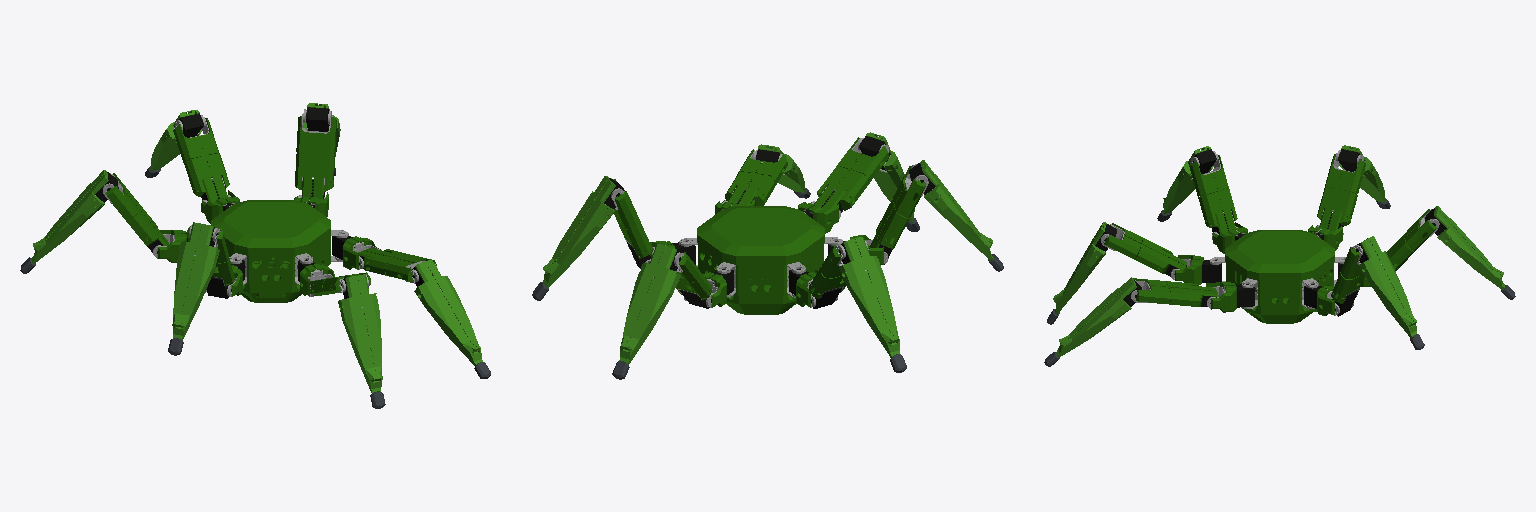
--- What the picture shows (computed from the rendered views, not written in the file) ---
The picture shows the robot from 3 angles, left to right: view 1: azimuth 30°, elevation 25°; view 2: azimuth 150°, elevation 25°; view 3: azimuth 270°, elevation 25°; orthographic projection.
Model hexapod with 19 links and 18 joints (18 revolute), rooted at body, posed all joints at 0.
Visible links, largest first — view 1: body, foot_5, foot_6, foot, ties_2, ties_3, foot_4, ties_4, foot_3, ties, ties_5, hip (+5 smaller); view 2: body, foot_3, foot_4, foot_2, ties_6, foot_5, ties, ties_5, foot_6, ties_2, ties_4, ties_3 (+4 smaller); view 3: body, foot_2, ties_4, ties_5, foot, foot_3, ties_6, ties, foot_6, foot_5, ties_2, foot_4 (+4 smaller).
Link boxes in pixels (x1,y1,x2,y2): body: (211, 200, 343, 302); foot_5: (168, 222, 219, 355); foot_6: (338, 274, 385, 408); foot: (412, 259, 490, 378); ties_2: (295, 114, 336, 198); ties_3: (173, 117, 229, 201); foot_4: (20, 170, 118, 273); ties_4: (103, 173, 168, 257); foot_3: (145, 110, 205, 177); ties: (358, 248, 436, 283); ties_5: (186, 226, 234, 298); hip: (332, 231, 380, 269); body: (684, 206, 837, 314); foot_3: (612, 244, 681, 379); foot_4: (838, 237, 906, 372); foot_2: (532, 176, 625, 300); ties_6: (812, 137, 889, 218); foot_5: (909, 160, 1003, 271); ties: (725, 149, 787, 205); ties_5: (869, 165, 928, 264); foot_6: (858, 132, 919, 231); ties_2: (612, 179, 652, 268); ties_4: (809, 244, 869, 308); ties_3: (650, 249, 712, 308); body: (1214, 230, 1345, 323); foot_2: (1354, 236, 1424, 349); ties_4: (1317, 153, 1365, 234); ties_5: (1189, 154, 1237, 239); foot: (1044, 277, 1141, 366); foot_3: (1425, 206, 1515, 299); ties_6: (1102, 223, 1186, 279); ties: (1133, 278, 1218, 308); foot_6: (1047, 222, 1116, 324); foot_5: (1157, 146, 1217, 221); ties_2: (1331, 238, 1367, 316); foot_4: (1336, 145, 1390, 208).
Bounding box of the posed robot: 0.8592 × 1.15 × 0.3683 m (x, y, z).
Meshes: 12 distinct files referenced, 123 mesh visuals loaded (12 binary STL).

robot.urdf — hexapod:
<?xml version="1.0" ?>
<!-- Generated using onshape-to-robot -->
<!-- Onshape https://cad.onshape.com/documents/026f9a33ba6a25a983a9d639/w/b83e0182bd0a887a03df3198/e/e49783848224d44e064e4a49 -->
<robot name="hexapod">
  <!-- Link body -->
  <link name="body">
    <inertial>
      <origin xyz="-0.378883 -0.237614 0.154823" rpy="0 0 0"/>
      <mass value="2.24777"/>
      <inertia ixx="0.0169961" ixy="-3.37164e-05" ixz="7.57412e-05" iyy="0.0170029" iyz="0.000192289" izz="0.0239802"/>
    </inertial>
    <!-- Part mobile_bracket -->
    <visual>
      <origin xyz="-0.27238 -0.300704 0.156035" rpy="2.0944 1.5708 0"/>
      <geometry>
        <mesh filename="package://meshes/mobile_bracket.stl"/>
      </geometry>
      <material name="mobile_bracket_material">
        <color rgba="0.647059 0.647059 0.647059 1"/>
      </material>
    </visual>
    <collision>
      <origin xyz="-0.27238 -0.300704 0.156035" rpy="2.0944 1.5708 0"/>
      <geometry>
        <mesh filename="package://meshes/mobile_bracket.stl"/>
      </geometry>
    </collision>
    <!-- Part mobile_bracket_2 -->
    <visual>
      <origin xyz="-0.27238 -0.177913 0.156035" rpy="1.0472 1.5708 0"/>
      <geometry>
        <mesh filename="package://meshes/mobile_bracket.stl"/>
      </geometry>
      <material name="mobile_bracket_2_material">
        <color rgba="0.647059 0.647059 0.647059 1"/>
      </material>
    </visual>
    <collision>
      <origin xyz="-0.27238 -0.177913 0.156035" rpy="1.0472 1.5708 0"/>
      <geometry>
        <mesh filename="package://meshes/mobile_bracket.stl"/>
      </geometry>
    </collision>
    <!-- Part bottom_cover -->
    <visual>
      <origin xyz="-0.37872 -0.239308 0.121035" rpy="3.14159 5.06521e-16 -2.0944"/>
      <geometry>
        <mesh filename="package://meshes/bottom_cover.stl"/>
      </geometry>
      <material name="bottom_cover_material">
        <color rgba="0.196078 0.439216 0.0784314 1"/>
      </material>
    </visual>
    <collision>
      <origin xyz="-0.37872 -0.239308 0.121035" rpy="3.14159 5.06521e-16 -2.0944"/>
      <geometry>
        <mesh filename="package://meshes/bottom_cover.stl"/>
      </geometry>
    </collision>
    <!-- Part mobile_bracket_3 -->
    <visual>
      <origin xyz="-0.37872 -0.116518 0.156035" rpy="1.10589e-16 -1.5708 0"/>
      <geometry>
        <mesh filename="package://meshes/mobile_bracket.stl"/>
      </geometry>
      <material name="mobile_bracket_3_material">
        <color rgba="0.647059 0.647059 0.647059 1"/>
      </material>
    </visual>
    <collision>
      <origin xyz="-0.37872 -0.116518 0.156035" rpy="1.10589e-16 -1.5708 0"/>
      <geometry>
        <mesh filename="package://meshes/mobile_bracket.stl"/>
      </geometry>
    </collision>
    <!-- Part cover -->
    <visual>
      <origin xyz="-0.37872 -0.239308 0.191035" rpy="1.60678e-16 3.96758e-17 2.0944"/>
      <geometry>
        <mesh filename="package://meshes/cover.stl"/>
      </geometry>
      <material name="cover_material">
        <color rgba="0.196078 0.439216 0.0784314 1"/>
      </material>
    </visual>
    <collision>
      <origin xyz="-0.37872 -0.239308 0.191035" rpy="1.60678e-16 3.96758e-17 2.0944"/>
      <geometry>
        <mesh filename="package://meshes/cover.stl"/>
      </geometry>
    </collision>
    <!-- Part mobile_bracket_4 -->
    <visual>
      <origin xyz="-0.37872 -0.362099 0.156035" rpy="-3.14159 1.5708 0"/>
      <geometry>
        <mesh filename="package://meshes/mobile_bracket.stl"/>
      </geometry>
      <material name="mobile_bracket_4_material">
        <color rgba="0.647059 0.647059 0.647059 1"/>
      </material>
    </visual>
    <collision>
      <origin xyz="-0.37872 -0.362099 0.156035" rpy="-3.14159 1.5708 0"/>
      <geometry>
        <mesh filename="package://meshes/mobile_bracket.stl"/>
      </geometry>
    </collision>
    <!-- Part mobile_bracket_5 -->
    <visual>
      <origin xyz="-0.485059 -0.177913 0.156035" rpy="1.0472 -1.5708 0"/>
      <geometry>
        <mesh filename="package://meshes/mobile_bracket.stl"/>
      </geometry>
      <material name="mobile_bracket_5_material">
        <color rgba="0.647059 0.647059 0.647059 1"/>
      </material>
    </visual>
    <collision>
      <origin xyz="-0.485059 -0.177913 0.156035" rpy="1.0472 -1.5708 0"/>
      <geometry>
        <mesh filename="package://meshes/mobile_bracket.stl"/>
      </geometry>
    </collision>
    <!-- Part mobile_bracket_6 -->
    <visual>
      <origin xyz="-0.485059 -0.300704 0.156035" rpy="2.0944 -1.5708 0"/>
      <geometry>
        <mesh filename="package://meshes/mobile_bracket.stl"/>
      </geometry>
      <material name="mobile_bracket_6_material">
        <color rgba="0.647059 0.647059 0.647059 1"/>
      </material>
    </visual>
    <collision>
      <origin xyz="-0.485059 -0.300704 0.156035" rpy="2.0944 -1.5708 0"/>
      <geometry>
        <mesh filename="package://meshes/mobile_bracket.stl"/>
      </geometry>
    </collision>
    <!-- Part body -->
    <visual>
      <origin xyz="-0.37872 -0.239308 0.156035" rpy="3.14159 -4.30211e-16 2.61799"/>
      <geometry>
        <mesh filename="package://meshes/body.stl"/>
      </geometry>
      <material name="body_material">
        <color rgba="0.196078 0.439216 0.0784314 1"/>
      </material>
    </visual>
    <collision>
      <origin xyz="-0.37872 -0.239308 0.156035" rpy="3.14159 -4.30211e-16 2.61799"/>
      <geometry>
        <mesh filename="package://meshes/body.stl"/>
      </geometry>
    </collision>
  </link>
  <!-- Link hip -->
  <link name="hip">
    <inertial>
      <origin xyz="0.0175757 -0.0202992 -0.0302141" rpy="0 0 0"/>
      <mass value="0.365356"/>
      <inertia ixx="0.000251996" ixy="7.11329e-05" ixz="-1.37527e-06" iyy="0.000228472" iyz="3.08839e-06" izz="0.000312341"/>
    </inertial>
    <!-- Part hip -->
    <visual>
      <origin xyz="0.03749 -0.0436004 -0.0045" rpy="1.00794e-15 -5.59099e-16 2.27229"/>
      <geometry>
        <mesh filename="package://meshes/hip.stl"/>
      </geometry>
      <material name="hip_material">
        <color rgba="0.196078 0.439216 0.0784314 1"/>
      </material>
    </visual>
    <collision>
      <origin xyz="0.03749 -0.0436004 -0.0045" rpy="1.00794e-15 -5.59099e-16 2.27229"/>
      <geometry>
        <mesh filename="package://meshes/hip.stl"/>
      </geometry>
    </collision>
    <!-- Part mobile_bracket_7 -->
    <visual>
      <origin xyz="0.0371081 -0.0439231 -0.0305" rpy="-5.59099e-16 -1.16799e-15 -2.4401"/>
      <geometry>
        <mesh filename="package://meshes/mobile_bracket.stl"/>
      </geometry>
      <material name="mobile_bracket_7_material">
        <color rgba="0.647059 0.647059 0.647059 1"/>
      </material>
    </visual>
    <collision>
      <origin xyz="0.0371081 -0.0439231 -0.0305" rpy="-5.59099e-16 -1.16799e-15 -2.4401"/>
      <geometry>
        <mesh filename="package://meshes/mobile_bracket.stl"/>
      </geometry>
    </collision>
    <!-- Part servo_wheel -->
    <visual>
      <origin xyz="1.04083e-16 5.55112e-17 -0.0025" rpy="-3.14159 -5.59099e-16 2.27229"/>
      <geometry>
        <mesh filename="package://meshes/servo_wheel.stl"/>
      </geometry>
      <material name="servo_wheel_material">
        <color rgba="0.647059 0.647059 0.647059 1"/>
      </material>
    </visual>
    <collision>
      <origin xyz="1.04083e-16 5.55112e-17 -0.0025" rpy="-3.14159 -5.59099e-16 2.27229"/>
      <geometry>
        <mesh filename="package://meshes/servo_wheel.stl"/>
      </geometry>
    </collision>
    <!-- Part servo -->
    <visual>
      <origin xyz="0.0123666 -0.0124615 -0.0305" rpy="-3.14159 -5.59099e-16 2.27229"/>
      <geometry>
        <mesh filename="package://meshes/servo.stl"/>
      </geometry>
      <material name="servo_material">
        <color rgba="0.109804 0.109804 0.105882 1"/>
      </material>
    </visual>
    <collision>
      <origin xyz="0.0123666 -0.0124615 -0.0305" rpy="-3.14159 -5.59099e-16 2.27229"/>
      <geometry>
        <mesh filename="package://meshes/servo.stl"/>
      </geometry>
    </collision>
    <!-- Part fixed_bracket -->
    <visual>
      <origin xyz="0.0371081 -0.0439231 -0.0305" rpy="-0.701492 1.5708 0"/>
      <geometry>
        <mesh filename="package://meshes/fixed_bracket.stl"/>
      </geometry>
      <material name="fixed_bracket_material">
        <color rgba="0.647059 0.647059 0.647059 1"/>
      </material>
    </visual>
    <collision>
      <origin xyz="0.0371081 -0.0439231 -0.0305" rpy="-0.701492 1.5708 0"/>
      <geometry>
        <mesh filename="package://meshes/fixed_bracket.stl"/>
      </geometry>
    </collision>
    <!-- Part servo_wheel_2 -->
    <visual>
      <origin xyz="8.32667e-17 1.11022e-16 -0.0585" rpy="-3.14159 -4.75187e-16 2.27229"/>
      <geometry>
        <mesh filename="package://meshes/servo_wheel.stl"/>
      </geometry>
      <material name="servo_wheel_2_material">
        <color rgba="0.647059 0.647059 0.647059 1"/>
      </material>
    </visual>
    <collision>
      <origin xyz="8.32667e-17 1.11022e-16 -0.0585" rpy="-3.14159 -4.75187e-16 2.27229"/>
      <geometry>
        <mesh filename="package://meshes/servo_wheel.stl"/>
      </geometry>
    </collision>
  </link>
  <!-- Link ties -->
  <link name="ties">
    <inertial>
      <origin xyz="0.0630476 0.0129059 -0.0309356" rpy="0 0 0"/>
      <mass value="0.589007"/>
      <inertia ixx="0.000383983" ixy="-0.000330292" ixz="1.05756e-05" iyy="0.00202124" iyz="2.11682e-06" izz="0.0018683"/>
    </inertial>
    <!-- Part mobile_bracket_8 -->
    <visual>
      <origin xyz="0.154281 0.0279945 -0.0311738" rpy="1.39264 1.5708 0"/>
      <geometry>
        <mesh filename="package://meshes/mobile_bracket.stl"/>
      </geometry>
      <material name="mobile_bracket_8_material">
        <color rgba="0.647059 0.647059 0.647059 1"/>
      </material>
    </visual>
    <collision>
      <origin xyz="0.154281 0.0279945 -0.0311738" rpy="1.39264 1.5708 0"/>
      <geometry>
        <mesh filename="package://meshes/mobile_bracket.stl"/>
      </geometry>
    </collision>
    <!-- Part low_tie -->
    <visual>
      <origin xyz="0.0263385 0.00495639 -0.0311738" rpy="-0.178157 1.5708 0"/>
      <geometry>
        <mesh filename="package://meshes/low_tie.stl"/>
      </geometry>
      <material name="low_tie_material">
        <color rgba="0.196078 0.439216 0.0784314 1"/>
      </material>
    </visual>
    <collision>
      <origin xyz="0.0263385 0.00495639 -0.0311738" rpy="-0.178157 1.5708 0"/>
      <geometry>
        <mesh filename="package://meshes/low_tie.stl"/>
      </geometry>
    </collision>
    <!-- Part top_tie -->
    <visual>
      <origin xyz="0.0270647 0.00487345 -0.0305" rpy="-0.178157 1.5708 0"/>
      <geometry>
        <mesh filename="package://meshes/top_tie.stl"/>
      </geometry>
      <material name="top_tie_material">
        <color rgba="0.196078 0.439216 0.0784314 1"/>
      </material>
    </visual>
    <collision>
      <origin xyz="0.0270647 0.00487345 -0.0305" rpy="-0.178157 1.5708 0"/>
      <geometry>
        <mesh filename="package://meshes/top_tie.stl"/>
      </geometry>
    </collision>
    <!-- Part servo_wheel_3 -->
    <visual>
      <origin xyz="-2.77556e-16 2.77556e-17 -0.0025" rpy="-3.14159 7.67201e-15 -2.96344"/>
      <geometry>
        <mesh filename="package://meshes/servo_wheel.stl"/>
      </geometry>
      <material name="servo_wheel_3_material">
        <color rgba="0.647059 0.647059 0.647059 1"/>
      </material>
    </visual>
    <collision>
      <origin xyz="-2.77556e-16 2.77556e-17 -0.0025" rpy="-3.14159 7.67201e-15 -2.96344"/>
      <geometry>
        <mesh filename="package://meshes/servo_wheel.stl"/>
      </geometry>
    </collision>
    <!-- Part servo_2 -->
    <visual>
      <origin xyz="0.0169741 0.00448348 -0.0305" rpy="-3.14159 3.69287e-15 -2.96344"/>
      <geometry>
        <mesh filename="package://meshes/servo.stl"/>
      </geometry>
      <material name="servo_2_material">
        <color rgba="0.109804 0.109804 0.105882 1"/>
      </material>
    </visual>
    <collision>
      <origin xyz="0.0169741 0.00448348 -0.0305" rpy="-3.14159 3.69287e-15 -2.96344"/>
      <geometry>
        <mesh filename="package://meshes/servo.stl"/>
      </geometry>
    </collision>
    <!-- Part fixed_bracket_2 -->
    <visual>
      <origin xyz="0.0565899 0.0101899 -0.0305" rpy="-1.74895 1.5708 0"/>
      <geometry>
        <mesh filename="package://meshes/fixed_bracket.stl"/>
      </geometry>
      <material name="fixed_bracket_2_material">
        <color rgba="0.647059 0.647059 0.647059 1"/>
      </material>
    </visual>
    <collision>
      <origin xyz="0.0565899 0.0101899 -0.0305" rpy="-1.74895 1.5708 0"/>
      <geometry>
        <mesh filename="package://meshes/fixed_bracket.stl"/>
      </geometry>
    </collision>
    <!-- Part servo_wheel_4 -->
    <visual>
      <origin xyz="-2.77556e-16 2.77556e-17 -0.0585" rpy="-3.14159 4.49001e-15 -2.96344"/>
      <geometry>
        <mesh filename="package://meshes/servo_wheel.stl"/>
      </geometry>
      <material name="servo_wheel_4_material">
        <color rgba="0.647059 0.647059 0.647059 1"/>
      </material>
    </visual>
    <collision>
      <origin xyz="-2.77556e-16 2.77556e-17 -0.0585" rpy="-3.14159 4.49001e-15 -2.96344"/>
      <geometry>
        <mesh filename="package://meshes/servo_wheel.stl"/>
      </geometry>
    </collision>
  </link>
  <!-- Link foot -->
  <link name="foot">
    <inertial>
      <origin xyz="-0.0728169 -0.00211214 -0.0306668" rpy="0 0 0"/>
      <mass value="0.635283"/>
      <inertia ixx="0.000268517" ixy="-1.64153e-05" ixz="4.3218e-06" iyy="0.0032443" iyz="-2.27229e-07" izz="0.00308124"/>
    </inertial>
    <!-- Part foot -->
    <visual>
      <origin xyz="-0.04425 1.66533e-16 -0.0305" rpy="3.29899e-16 1.5708 0"/>
      <geometry>
        <mesh filename="package://meshes/foot.stl"/>
      </geometry>
      <material name="foot_material">
        <color rgba="0.282353 0.54902 0.160784 1"/>
      </material>
    </visual>
    <collision>
      <origin xyz="-0.04425 1.66533e-16 -0.0305" rpy="3.29899e-16 1.5708 0"/>
      <geometry>
        <mesh filename="package://meshes/foot.stl"/>
      </geometry>
    </collision>
    <!-- Part rubber_foot -->
    <visual>
      <origin xyz="-0.04375 -5.55112e-17 -0.03" rpy="1.14854e-15 1.5708 0"/>
      <geometry>
        <mesh filename="package://meshes/rubber_foot.stl"/>
      </geometry>
      <material name="rubber_foot_material">
        <color rgba="0.262745 0.282353 0.301961 1"/>
      </material>
    </visual>
    <collision>
      <origin xyz="-0.04375 -5.55112e-17 -0.03" rpy="1.14854e-15 1.5708 0"/>
      <geometry>
        <mesh filename="package://meshes/rubber_foot.stl"/>
      </geometry>
    </collision>
    <!-- Part servo_wheel_5 -->
    <visual>
      <origin xyz="0 5.55112e-17 -0.0025" rpy="3.14159 -1.03545e-18 -4.63719e-17"/>
      <geometry>
        <mesh filename="package://meshes/servo_wheel.stl"/>
      </geometry>
      <material name="servo_wheel_5_material">
        <color rgba="0.647059 0.647059 0.647059 1"/>
      </material>
    </visual>
    <collision>
      <origin xyz="0 5.55112e-17 -0.0025" rpy="3.14159 -1.03545e-18 -4.63719e-17"/>
      <geometry>
        <mesh filename="package://meshes/servo_wheel.stl"/>
      </geometry>
    </collision>
    <!-- Part servo_3 -->
    <visual>
      <origin xyz="-0.0175 -0.00140442 -0.0305" rpy="-3.14159 2.5702e-16 -2.803e-16"/>
      <geometry>
        <mesh filename="package://meshes/servo.stl"/>
      </geometry>
      <material name="servo_3_material">
        <color rgba="0.109804 0.109804 0.105882 1"/>
      </material>
    </visual>
    <collision>
      <origin xyz="-0.0175 -0.00140442 -0.0305" rpy="-3.14159 2.5702e-16 -2.803e-16"/>
      <geometry>
        <mesh filename="package://meshes/servo.stl"/>
      </geometry>
    </collision>
    <!-- Part fixed_bracket_3 -->
    <visual>
      <origin xyz="-0.0575 1.11022e-16 -0.0305" rpy="1.5708 1.5708 0"/>
      <geometry>
        <mesh filename="package://meshes/fixed_bracket.stl"/>
      </geometry>
      <material name="fixed_bracket_3_material">
        <color rgba="0.647059 0.647059 0.647059 1"/>
      </material>
    </visual>
    <collision>
      <origin xyz="-0.0575 1.11022e-16 -0.0305" rpy="1.5708 1.5708 0"/>
      <geometry>
        <mesh filename="package://meshes/fixed_bracket.stl"/>
      </geometry>
    </collision>
    <!-- Part servo_wheel_6 -->
    <visual>
      <origin xyz="0 0 -0.0585" rpy="3.14159 8.34288e-16 3.57461e-16"/>
      <geometry>
        <mesh filename="package://meshes/servo_wheel.stl"/>
      </geometry>
      <material name="servo_wheel_6_material">
        <color rgba="0.647059 0.647059 0.647059 1"/>
      </material>
    </visual>
    <collision>
      <origin xyz="0 0 -0.0585" rpy="3.14159 8.34288e-16 3.57461e-16"/>
      <geometry>
        <mesh filename="package://meshes/servo_wheel.stl"/>
      </geometry>
    </collision>
  </link>
  <!-- Joint from ties to foot -->
  <joint name="foot_1" type="revolute">
    <origin xyz="0.188727 0.0341971 -0.000790548" rpy="7.80554e-16 1.23733e-15 2.45913"/>
    <parent link="ties"/>
    <child link="foot"/>
    <axis xyz="0 0 1"/>
    <limit effort="10" velocity="10" lower="-1.23378" upper="2.95501"/>
  </joint>
  <!-- Joint from hip to ties -->
  <joint name="ties_1" type="revolute">
    <origin xyz="0.0359262 -0.0907403 -0.0305" rpy="1.5708 5.59099e-16 -0.869304"/>
    <parent link="hip"/>
    <child link="ties"/>
    <axis xyz="0 0 1"/>
    <limit effort="10" velocity="10" lower="-1.92349" upper="1.56717"/>
  </joint>
  <!-- Joint from body to hip -->
  <joint name="hip_1" type="revolute">
    <origin xyz="-0.242069 -0.318204 0.186418" rpy="4.41736e-16 -2.00843e-17 -0.523599"/>
    <parent link="body"/>
    <child link="hip"/>
    <axis xyz="0 0 1"/>
    <limit effort="10" velocity="10" lower="-0.701492" upper="2.4401"/>
  </joint>
  <!-- Link hip_2 -->
  <link name="hip_2">
    <inertial>
      <origin xyz="-0.0268487 -0.000325484 -0.0302141" rpy="0 0 0"/>
      <mass value="0.365356"/>
      <inertia ixx="0.000168136" ixy="-2.8417e-07" ixz="3.2467e-06" iyy="0.000312332" iyz="-9.42575e-07" izz="0.000312341"/>
    </inertial>
    <!-- Part hip_2 -->
    <visual>
      <origin xyz="-0.0575 -0.0005 -0.0045" rpy="2.63678e-16 6.80012e-16 5.11551e-16"/>
      <geometry>
        <mesh filename="package://meshes/hip.stl"/>
      </geometry>
      <material name="hip_2_material">
        <color rgba="0.196078 0.439216 0.0784314 1"/>
      </material>
    </visual>
    <collision>
      <origin xyz="-0.0575 -0.0005 -0.0045" rpy="2.63678e-16 6.80012e-16 5.11551e-16"/>
      <geometry>
        <mesh filename="package://meshes/hip.stl"/>
      </geometry>
    </collision>
    <!-- Part mobile_bracket_9 -->
    <visual>
      <origin xyz="-0.0575 0 -0.0305" rpy="9.85323e-16 -4.996e-16 1.5708"/>
      <geometry>
        <mesh filename="package://meshes/mobile_bracket.stl"/>
      </geometry>
      <material name="mobile_bracket_9_material">
        <color rgba="0.647059 0.647059 0.647059 1"/>
      </material>
    </visual>
    <collision>
      <origin xyz="-0.0575 0 -0.0305" rpy="9.85323e-16 -4.996e-16 1.5708"/>
      <geometry>
        <mesh filename="package://meshes/mobile_bracket.stl"/>
      </geometry>
    </collision>
    <!-- Part servo_wheel_7 -->
    <visual>
      <origin xyz="-5.55112e-17 1.38778e-17 -0.0025" rpy="-3.14159 -6.38069e-32 9.97878e-17"/>
      <geometry>
        <mesh filename="package://meshes/servo_wheel.stl"/>
      </geometry>
      <material name="servo_wheel_7_material">
        <color rgba="0.647059 0.647059 0.647059 1"/>
      </material>
    </visual>
    <collision>
      <origin xyz="-5.55112e-17 1.38778e-17 -0.0025" rpy="-3.14159 -6.38069e-32 9.97878e-17"/>
      <geometry>
        <mesh filename="package://meshes/servo_wheel.stl"/>
      </geometry>
    </collision>
    <!-- Part servo_4 -->
    <visual>
      <origin xyz="-0.0175 -0.00140442 -0.0305" rpy="-3.14159 1.8735e-16 3.21238e-16"/>
      <geometry>
        <mesh filename="package://meshes/servo.stl"/>
      </geometry>
      <material name="servo_4_material">
        <color rgba="0.109804 0.109804 0.105882 1"/>
      </material>
    </visual>
    <collision>
      <origin xyz="-0.0175 -0.00140442 -0.0305" rpy="-3.14159 1.8735e-16 3.21238e-16"/>
      <geometry>
        <mesh filename="package://meshes/servo.stl"/>
      </geometry>
    </collision>
    <!-- Part fixed_bracket_4 -->
    <visual>
      <origin xyz="-0.0575 0 -0.0305" rpy="1.5708 1.5708 0"/>
      <geometry>
        <mesh filename="package://meshes/fixed_bracket.stl"/>
      </geometry>
      <material name="fixed_bracket_4_material">
        <color rgba="0.647059 0.647059 0.647059 1"/>
      </material>
    </visual>
    <collision>
      <origin xyz="-0.0575 0 -0.0305" rpy="1.5708 1.5708 0"/>
      <geometry>
        <mesh filename="package://meshes/fixed_bracket.stl"/>
      </geometry>
    </collision>
    <!-- Part servo_wheel_8 -->
    <visual>
      <origin xyz="-1.11022e-16 2.77556e-17 -0.0585" rpy="3.14159 -3.11556e-15 3.82586e-16"/>
      <geometry>
        <mesh filename="package://meshes/servo_wheel.stl"/>
      </geometry>
      <material name="servo_wheel_8_material">
        <color rgba="0.647059 0.647059 0.647059 1"/>
      </material>
    </visual>
    <collision>
      <origin xyz="-1.11022e-16 2.77556e-17 -0.0585" rpy="3.14159 -3.11556e-15 3.82586e-16"/>
      <geometry>
        <mesh filename="package://meshes/servo_wheel.stl"/>
      </geometry>
    </collision>
  </link>
  <!-- Link ties_2 -->
  <link name="ties_2">
    <inertial>
      <origin xyz="0.0229047 0.060141 -0.0309356" rpy="0 0 0"/>
      <mass value="0.589007"/>
      <inertia ixx="0.00184964" ixy="-0.000600491" ixz="3.88256e-06" iyy="0.000555575" iyz="1.00623e-05" izz="0.0018683"/>
    </inertial>
    <!-- Part mobile_bracket_10 -->
    <visual>
      <origin xyz="0.059077 0.145245 -0.0311738" rpy="0.387644 1.5708 0"/>
      <geometry>
        <mesh filename="package://meshes/mobile_bracket.stl"/>
      </geometry>
      <material name="mobile_bracket_10_material">
        <color rgba="0.647059 0.647059 0.647059 1"/>
      </material>
    </visual>
    <collision>
      <origin xyz="0.059077 0.145245 -0.0311738" rpy="0.387644 1.5708 0"/>
      <geometry>
        <mesh filename="package://meshes/mobile_bracket.stl"/>
      </geometry>
    </collision>
    <!-- Part low_tie_2 -->
    <visual>
      <origin xyz="0.0099359 0.024891 -0.0311738" rpy="-1.18315 1.5708 0"/>
      <geometry>
        <mesh filename="package://meshes/low_tie.stl"/>
      </geometry>
      <material name="low_tie_2_material">
        <color rgba="0.196078 0.439216 0.0784314 1"/>
      </material>
    </visual>
    <collision>
      <origin xyz="0.0099359 0.024891 -0.0311738" rpy="-1.18315 1.5708 0"/>
      <geometry>
        <mesh filename="package://meshes/low_tie.stl"/>
      </geometry>
    </collision>
    <!-- Part top_tie_2 -->
    <visual>
      <origin xyz="0.0103952 0.0254596 -0.0305" rpy="-1.18315 1.5708 0"/>
      <geometry>
        <mesh filename="package://meshes/top_tie.stl"/>
      </geometry>
      <material name="top_tie_2_material">
        <color rgba="0.196078 0.439216 0.0784314 1"/>
      </material>
    </visual>
    <collision>
      <origin xyz="0.0103952 0.0254596 -0.0305" rpy="-1.18315 1.5708 0"/>
      <geometry>
        <mesh filename="package://meshes/top_tie.stl"/>
      </geometry>
    </collision>
    <!-- Part servo_wheel_9 -->
    <visual>
      <origin xyz="2.77556e-17 0 -0.0025" rpy="3.14159 -6.39221e-16 -1.95844"/>
      <geometry>
        <mesh filename="package://meshes/servo_wheel.stl"/>
      </geometry>
      <material name="servo_wheel_9_material">
        <color rgba="0.647059 0.647059 0.647059 1"/>
      </material>
    </visual>
    <collision>
      <origin xyz="2.77556e-17 0 -0.0025" rpy="3.14159 -6.39221e-16 -1.95844"/>
      <geometry>
        <mesh filename="package://meshes/servo_wheel.stl"/>
      </geometry>
    </collision>
    <!-- Part servo_5 -->
    <visual>
      <origin xyz="0.00531493 0.0167324 -0.0305" rpy="3.14159 3.81092e-16 -1.95844"/>
      <geometry>
        <mesh filename="package://meshes/servo.stl"/>
      </geometry>
      <material name="servo_5_material">
        <color rgba="0.109804 0.109804 0.105882 1"/>
      </material>
    </visual>
    <collision>
      <origin xyz="0.00531493 0.0167324 -0.0305" rpy="3.14159 3.81092e-16 -1.95844"/>
      <geometry>
        <mesh filename="package://meshes/servo.stl"/>
      </geometry>
    </collision>
    <!-- Part fixed_bracket_5 -->
    <visual>
      <origin xyz="0.0217355 0.0532336 -0.0305" rpy="-2.75395 1.5708 0"/>
      <geometry>
        <mesh filename="package://meshes/fixed_bracket.stl"/>
      </geometry>
      <material name="fixed_bracket_5_material">
        <color rgba="0.647059 0.647059 0.647059 1"/>
      </material>
    </visual>
    <collision>
      <origin xyz="0.0217355 0.0532336 -0.0305" rpy="-2.75395 1.5708 0"/>
      <geometry>
        <mesh filename="package://meshes/fixed_bracket.stl"/>
      </geometry>
    </collision>
    <!-- Part servo_wheel_10 -->
    <visual>
      <origin xyz="0 -8.32667e-17 -0.0585" rpy="3.14159 -2.34729e-15 -1.95844"/>
      <geometry>
        <mesh filename="package://meshes/servo_wheel.stl"/>
      </geometry>
      <material name="servo_wheel_10_material">
        <color rgba="0.647059 0.647059 0.647059 1"/>
      </material>
    </visual>
    <collision>
      <origin xyz="0 -8.32667e-17 -0.0585" rpy="3.14159 -2.34729e-15 -1.95844"/>
      <geometry>
        <mesh filename="package://meshes/servo_wheel.stl"/>
      </geometry>
    </collision>
  </link>
  <!-- Link foot_2 -->
  <link name="foot_2">
    <inertial>
      <origin xyz="-0.0728169 -0.00211214 -0.0306668" rpy="0 0 0"/>
      <mass value="0.635283"/>
      <inertia ixx="0.000268517" ixy="-1.64153e-05" ixz="4.3218e-06" iyy="0.0032443" iyz="-2.27229e-07" izz="0.00308124"/>
    </inertial>
    <!-- Part foot_2 -->
    <visual>
      <origin xyz="-0.04425 -2.77556e-17 -0.0305" rpy="-7.76746e-17 1.5708 0"/>
      <geometry>
        <mesh filename="package://meshes/foot.stl"/>
      </geometry>
      <material name="foot_2_material">
        <color rgba="0.282353 0.54902 0.160784 1"/>
      </material>
    </visual>
    <collision>
      <origin xyz="-0.04425 -2.77556e-17 -0.0305" rpy="-7.76746e-17 1.5708 0"/>
      <geometry>
        <mesh filename="package://meshes/foot.stl"/>
      </geometry>
    </collision>
    <!-- Part rubber_foot_2 -->
    <visual>
      <origin xyz="-0.04375 -2.77556e-17 -0.03" rpy="-2.04033e-16 1.5708 0"/>
      <geometry>
        <mesh filename="package://meshes/rubber_foot.stl"/>
      </geometry>
      <material name="rubber_foot_2_material">
        <color rgba="0.262745 0.282353 0.301961 1"/>
      </material>
    </visual>
    <collision>
      <origin xyz="-0.04375 -2.77556e-17 -0.03" rpy="-2.04033e-16 1.5708 0"/>
      <geometry>
        <mesh filename="package://meshes/rubber_foot.stl"/>
      </geometry>
    </collision>
    <!-- Part servo_wheel_11 -->
    <visual>
      <origin xyz="-5.55112e-17 -2.77556e-17 -0.0025" rpy="-3.14159 -8.44185e-18 -4.60747e-17"/>
      <geometry>
        <mesh filename="package://meshes/servo_wheel.stl"/>
      </geometry>
      <material name="servo_wheel_11_material">
        <color rgba="0.647059 0.647059 0.647059 1"/>
      </material>
    </visual>
    <collision>
      <origin xyz="-5.55112e-17 -2.77556e-17 -0.0025" rpy="-3.14159 -8.44185e-18 -4.60747e-17"/>
      <geometry>
        <mesh filename="package://meshes/servo_wheel.stl"/>
      </geometry>
    </collision>
    <!-- Part servo_6 -->
    <visual>
      <origin xyz="-0.0175 -0.00140442 -0.0305" rpy="-3.14159 1.96932e-16 1.32349e-16"/>
      <geometry>
        <mesh filename="package://meshes/servo.stl"/>
      </geometry>
      <material name="servo_6_material">
        <color rgba="0.109804 0.109804 0.105882 1"/>
      </material>
    </visual>
    <collision>
      <origin xyz="-0.0175 -0.00140442 -0.0305" rpy="-3.14159 1.96932e-16 1.32349e-16"/>
      <geometry>
        <mesh filename="package://meshes/servo.stl"/>
      </geometry>
    </collision>
    <!-- Part fixed_bracket_6 -->
    <visual>
      <origin xyz="-0.0575 -4.16334e-17 -0.0305" rpy="1.5708 1.5708 0"/>
      <geometry>
        <mesh filename="package://meshes/fixed_bracket.stl"/>
      </geometry>
      <material name="fixed_bracket_6_material">
        <color rgba="0.647059 0.647059 0.647059 1"/>
      </material>
    </visual>
    <collision>
      <origin xyz="-0.0575 -4.16334e-17 -0.0305" rpy="1.5708 1.5708 0"/>
      <geometry>
        <mesh filename="package://meshes/fixed_bracket.stl"/>
      </geometry>
    </collision>
    <!-- Part servo_wheel_12 -->
    <visual>
      <origin xyz="-5.55112e-17 -2.77556e-17 -0.0585" rpy="-3.14159 8.52489e-16 -8.81942e-17"/>
      <geometry>
        <mesh filename="package://meshes/servo_wheel.stl"/>
      </geometry>
      <material name="servo_wheel_12_material">
        <color rgba="0.647059 0.647059 0.647059 1"/>
      </material>
    </visual>
    <collision>
      <origin xyz="-5.55112e-17 -2.77556e-17 -0.0585" rpy="-3.14159 8.52489e-16 -8.81942e-17"/>
      <geometry>
        <mesh filename="package://meshes/servo_wheel.stl"/>
      </geometry>
    </collision>
  </link>
  <!-- Joint from ties_2 to foot_2 -->
  <joint name="foot_2" type="revolute">
    <origin xyz="0.0723072 0.177648 -0.000790548" rpy="3.49334e-15 -4.3045e-15 2.24033"/>
    <parent link="ties_2"/>
    <child link="foot_2"/>
    <axis xyz="0 0 1"/>
    <limit effort="10" velocity="10" lower="-0.0099805" upper="4.17881"/>
  </joint>
  <!-- Joint from hip_2 to ties_2 -->
  <joint name="ties_2" type="revolute">
    <origin xyz="-0.0925 0.0311167 -0.0305" rpy="1.5708 -9.85323e-16 -3.14159"/>
    <parent link="hip_2"/>
    <child link="ties_2"/>
    <axis xyz="0 0 1"/>
    <limit effort="10" velocity="10" lower="-2.92848" upper="0.562177"/>
  </joint>
  <!-- Joint from body to hip_2 -->
  <joint name="hip_2" type="revolute">
    <origin xyz="-0.242069 -0.160413 0.186418" rpy="-2.65193e-15 4.96332e-16 -2.2469"/>
    <parent link="body"/>
    <child link="hip_2"/>
    <axis xyz="0 0 1"/>
    <limit effort="10" velocity="10" lower="-1.94189" upper="1.19971"/>
  </joint>
  <!-- Link hip_3 -->
  <link name="hip_3">
    <inertial>
      <origin xyz="-0.0268487 -0.000325484 -0.0302141" rpy="0 0 0"/>
      <mass value="0.365356"/>
      <inertia ixx="0.000168136" ixy="-2.8417e-07" ixz="3.2467e-06" iyy="0.000312332" iyz="-9.42575e-07" izz="0.000312341"/>
    </inertial>
    <!-- Part hip_3 -->
    <visual>
      <origin xyz="-0.0575 -0.0005 -0.0045" rpy="4.30211e-16 3.95517e-16 -3.61773e-16"/>
      <geometry>
        <mesh filename="package://meshes/hip.stl"/>
      </geometry>
      <material name="hip_3_material">
        <color rgba="0.196078 0.439216 0.0784314 1"/>
      </material>
    </visual>
    <collision>
      <origin xyz="-0.0575 -0.0005 -0.0045" rpy="4.30211e-16 3.95517e-16 -3.61773e-16"/>
      <geometry>
        <mesh filename="package://meshes/hip.stl"/>
      </geometry>
    </collision>
    <!-- Part mobile_bracket_11 -->
    <visual>
      <origin xyz="-0.0575 -5.55112e-17 -0.0305" rpy="8.32667e-16 7.91034e-16 1.5708"/>
      <geometry>
        <mesh filename="package://meshes/mobile_bracket.stl"/>
      </geometry>
      <material name="mobile_bracket_11_material">
        <color rgba="0.647059 0.647059 0.647059 1"/>
      </material>
    </visual>
    <collision>
      <origin xyz="-0.0575 -5.55112e-17 -0.0305" rpy="8.32667e-16 7.91034e-16 1.5708"/>
      <geometry>
        <mesh filename="package://meshes/mobile_bracket.stl"/>
      </geometry>
    </collision>
    <!-- Part servo_wheel_13 -->
    <visual>
      <origin xyz="1.38778e-17 0 -0.0025" rpy="3.14159 -1.49214e-32 4.47223e-18"/>
      <geometry>
        <mesh filename="package://meshes/servo_wheel.stl"/>
      </geometry>
      <material name="servo_wheel_13_material">
        <color rgba="0.647059 0.647059 0.647059 1"/>
      </material>
    </visual>
    <collision>
      <origin xyz="1.38778e-17 0 -0.0025" rpy="3.14159 -1.49214e-32 4.47223e-18"/>
      <geometry>
        <mesh filename="package://meshes/servo_wheel.stl"/>
      </geometry>
    </collision>
    <!-- Part servo_7 -->
    <visual>
      <origin xyz="-0.0175 -0.00140442 -0.0305" rpy="-3.14159 6.10623e-16 -1.19127e-17"/>
      <geometry>
        <mesh filename="package://meshes/servo.stl"/>
      </geometry>
      <material name="servo_7_material">
        <color rgba="0.109804 0.109804 0.105882 1"/>
      </material>
    </visual>
    <collision>
      <origin xyz="-0.0175 -0.00140442 -0.0305" rpy="-3.14159 6.10623e-16 -1.19127e-17"/>
      <geometry>
        <mesh filename="package://meshes/servo.stl"/>
      </geometry>
    </collision>
    <!-- Part fixed_bracket_7 -->
    <visual>
      <origin xyz="-0.0575 -5.55112e-17 -0.0305" rpy="1.5708 1.5708 0"/>
      <geometry>
        <mesh filename="package://meshes/fixed_bracket.stl"/>
      </geometry>
      <material name="fixed_bracket_7_material">
        <color rgba="0.647059 0.647059 0.647059 1"/>
      </material>
    </visual>
    <collision>
      <origin xyz="-0.0575 -5.55112e-17 -0.0305" rpy="1.5708 1.5708 0"/>
      <geometry>
        <mesh filename="package://meshes/fixed_bracket.stl"/>
      </geometry>
    </collision>
    <!-- Part servo_wheel_14 -->
    <visual>
      <origin xyz="1.38778e-17 -5.55112e-17 -0.0585" rpy="-3.14159 7.77156e-16 -1.98676e-16"/>
      <geometry>
        <mesh filename="package://meshes/servo_wheel.stl"/>
      </geometry>
      <material name="servo_wheel_14_material">
        <color rgba="0.647059 0.647059 0.647059 1"/>
      </material>
    </visual>
    <collision>
      <origin xyz="1.38778e-17 -5.55112e-17 -0.0585" rpy="-3.14159 7.77156e-16 -1.98676e-16"/>
      <geometry>
        <mesh filename="package://meshes/servo_wheel.stl"/>
      </geometry>
    </collision>
  </link>
  <!-- Link ties_3 -->
  <link name="ties_3">
    <inertial>
      <origin xyz="0.0412593 0.0493887 -0.0309356" rpy="0 0 0"/>
      <mass value="0.589007"/>
      <inertia ixx="0.00134199" ixy="-0.000871674" ixz="6.95075e-06" iyy="0.00106323" iyz="8.2469e-06" izz="0.0018683"/>
    </inertial>
    <!-- Part mobile_bracket_12 -->
    <visual>
      <origin xyz="0.103199 0.118052 -0.0311738" rpy="0.719711 1.5708 0"/>
      <geometry>
        <mesh filename="package://meshes/mobile_bracket.stl"/>
      </geometry>
      <material name="mobile_bracket_12_material">
        <color rgba="0.647059 0.647059 0.647059 1"/>
      </material>
    </visual>
    <collision>
      <origin xyz="0.103199 0.118052 -0.0311738" rpy="0.719711 1.5708 0"/>
      <geometry>
        <mesh filename="package://meshes/mobile_bracket.stl"/>
      </geometry>
    </collision>
    <!-- Part low_tie_3 -->
    <visual>
      <origin xyz="0.0175075 0.0202921 -0.0311738" rpy="-0.851085 1.5708 0"/>
      <geometry>
        <mesh filename="package://meshes/low_tie.stl"/>
      </geometry>
      <material name="low_tie_3_material">
        <color rgba="0.196078 0.439216 0.0784314 1"/>
      </material>
    </visual>
    <collision>
      <origin xyz="0.0175075 0.0202921 -0.0311738" rpy="-0.851085 1.5708 0"/>
      <geometry>
        <mesh filename="package://meshes/low_tie.stl"/>
      </geometry>
    </collision>
    <!-- Part top_tie_3 -->
    <visual>
      <origin xyz="0.0181271 0.0206799 -0.0305" rpy="-0.851085 1.5708 0"/>
      <geometry>
        <mesh filename="package://meshes/top_tie.stl"/>
      </geometry>
      <material name="top_tie_3_material">
        <color rgba="0.196078 0.439216 0.0784314 1"/>
      </material>
    </visual>
    <collision>
      <origin xyz="0.0181271 0.0206799 -0.0305" rpy="-0.851085 1.5708 0"/>
      <geometry>
        <mesh filename="package://meshes/top_tie.stl"/>
      </geometry>
    </collision>
    <!-- Part servo_wheel_15 -->
    <visual>
      <origin xyz="-3.46945e-18 -2.77556e-17 -0.0025" rpy="3.14159 4.28135e-15 -2.29051"/>
      <geometry>
        <mesh filename="package://meshes/servo_wheel.stl"/>
      </geometry>
      <material name="servo_wheel_15_material">
        <color rgba="0.647059 0.647059 0.647059 1"/>
      </material>
    </visual>
    <collision>
      <origin xyz="-3.46945e-18 -2.77556e-17 -0.0025" rpy="3.14159 4.28135e-15 -2.29051"/>
      <geometry>
        <mesh filename="package://meshes/servo_wheel.stl"/>
      </geometry>
    </collision>
    <!-- Part servo_8 -->
    <visual>
      <origin xyz="0.0104793 0.0140857 -0.0305" rpy="3.14159 3.38152e-15 -2.29051"/>
      <geometry>
        <mesh filename="package://meshes/servo.stl"/>
      </geometry>
      <material name="servo_8_material">
        <color rgba="0.109804 0.109804 0.105882 1"/>
      </material>
    </visual>
    <collision>
      <origin xyz="0.0104793 0.0140857 -0.0305" rpy="3.14159 3.38152e-15 -2.29051"/>
      <geometry>
        <mesh filename="package://meshes/servo.stl"/>
      </geometry>
    </collision>
    <!-- Part fixed_bracket_8 -->
    <visual>
      <origin xyz="0.0379021 0.0432398 -0.0305" rpy="-2.42188 1.5708 0"/>
      <geometry>
        <mesh filename="package://meshes/fixed_bracket.stl"/>
      </geometry>
      <material name="fixed_bracket_8_material">
        <color rgba="0.647059 0.647059 0.647059 1"/>
      </material>
    </visual>
    <collision>
      <origin xyz="0.0379021 0.0432398 -0.0305" rpy="-2.42188 1.5708 0"/>
      <geometry>
        <mesh filename="package://meshes/fixed_bracket.stl"/>
      </geometry>
    </collision>
    <!-- Part servo_wheel_16 -->
    <visual>
      <origin xyz="5.9848e-17 5.55112e-17 -0.0585" rpy="3.14159 1.81866e-15 -2.29051"/>
      <geometry>
        <mesh filename="package://meshes/servo_wheel.stl"/>
      </geometry>
      <material name="servo_wheel_16_material">
        <color rgba="0.647059 0.647059 0.647059 1"/>
      </material>
    </visual>
    <collision>
      <origin xyz="5.9848e-17 5.55112e-17 -0.0585" rpy="3.14159 1.81866e-15 -2.29051"/>
      <geometry>
        <mesh filename="package://meshes/servo_wheel.stl"/>
      </geometry>
    </collision>
  </link>
  <!-- Link foot_3 -->
  <link name="foot_3">
    <inertial>
      <origin xyz="-0.0728169 -0.00211214 -0.0306668" rpy="0 0 0"/>
      <mass value="0.635283"/>
      <inertia ixx="0.000268517" ixy="-1.64153e-05" ixz="4.3218e-06" iyy="0.0032443" iyz="-2.27229e-07" izz="0.00308124"/>
    </inertial>
    <!-- Part foot_3 -->
    <visual>
      <origin xyz="-0.04425 5.55112e-17 -0.0305" rpy="-6.13073e-16 1.5708 0"/>
      <geometry>
        <mesh filename="package://meshes/foot.stl"/>
      </geometry>
      <material name="foot_3_material">
        <color rgba="0.282353 0.54902 0.160784 1"/>
      </material>
    </visual>
    <collision>
      <origin xyz="-0.04425 5.55112e-17 -0.0305" rpy="-6.13073e-16 1.5708 0"/>
      <geometry>
        <mesh filename="package://meshes/foot.stl"/>
      </geometry>
    </collision>
    <!-- Part rubber_foot_3 -->
    <visual>
      <origin xyz="-0.04375 5.55112e-17 -0.03" rpy="-5.30421e-16 1.5708 0"/>
      <geometry>
        <mesh filename="package://meshes/rubber_foot.stl"/>
      </geometry>
      <material name="rubber_foot_3_material">
        <color rgba="0.262745 0.282353 0.301961 1"/>
      </material>
    </visual>
    <collision>
      <origin xyz="-0.04375 5.55112e-17 -0.03" rpy="-5.30421e-16 1.5708 0"/>
      <geometry>
        <mesh filename="package://meshes/rubber_foot.stl"/>
      </geometry>
    </collision>
    <!-- Part servo_wheel_17 -->
    <visual>
      <origin xyz="-2.77556e-17 0 -0.0025" rpy="3.14159 1.44279e-18 -5.55038e-17"/>
      <geometry>
        <mesh filename="package://meshes/servo_wheel.stl"/>
      </geometry>
      <material name="servo_wheel_17_material">
        <color rgba="0.647059 0.647059 0.647059 1"/>
      </material>
    </visual>
    <collision>
      <origin xyz="-2.77556e-17 0 -0.0025" rpy="3.14159 1.44279e-18 -5.55038e-17"/>
      <geometry>
        <mesh filename="package://meshes/servo_wheel.stl"/>
      </geometry>
    </collision>
    <!-- Part servo_9 -->
    <visual>
      <origin xyz="-0.0175 -0.00140442 -0.0305" rpy="3.14159 1.60462e-15 -4.61361e-16"/>
      <geometry>
        <mesh filename="package://meshes/servo.stl"/>
      </geometry>
      <material name="servo_9_material">
        <color rgba="0.109804 0.109804 0.105882 1"/>
      </material>
    </visual>
    <collision>
      <origin xyz="-0.0175 -0.00140442 -0.0305" rpy="3.14159 1.60462e-15 -4.61361e-16"/>
      <geometry>
        <mesh filename="package://meshes/servo.stl"/>
      </geometry>
    </collision>
    <!-- Part fixed_bracket_9 -->
    <visual>
      <origin xyz="-0.0575 5.55112e-17 -0.0305" rpy="1.5708 1.5708 0"/>
      <geometry>
        <mesh filename="package://meshes/fixed_bracket.stl"/>
      </geometry>
      <material name="fixed_bracket_9_material">
        <color rgba="0.647059 0.647059 0.647059 1"/>
      </material>
    </visual>
    <collision>
      <origin xyz="-0.0575 5.55112e-17 -0.0305" rpy="1.5708 1.5708 0"/>
      <geometry>
        <mesh filename="package://meshes/fixed_bracket.stl"/>
      </geometry>
    </collision>
    <!-- Part servo_wheel_18 -->
    <visual>
      <origin xyz="0 0 -0.0585" rpy="3.14159 -2.63888e-15 -4.73683e-16"/>
      <geometry>
        <mesh filename="package://meshes/servo_wheel.stl"/>
      </geometry>
      <material name="servo_wheel_18_material">
        <color rgba="0.647059 0.647059 0.647059 1"/>
      </material>
    </visual>
    <collision>
      <origin xyz="0 0 -0.0585" rpy="3.14159 -2.63888e-15 -4.73683e-16"/>
      <geometry>
        <mesh filename="package://meshes/servo_wheel.stl"/>
      </geometry>
    </collision>
  </link>
  <!-- Joint from ties_3 to foot_3 -->
  <joint name="foot_3" type="revolute">
    <origin xyz="0.12627 0.144372 -0.000790548" rpy="1.20553e-14 8.1741e-16 2.33075"/>
    <parent link="ties_3"/>
    <child link="foot_3"/>
    <axis xyz="0 0 1"/>
    <limit effort="10" velocity="10" lower="-0.432463" upper="3.75633"/>
  </joint>
  <!-- Joint from hip_3 to ties_3 -->
  <joint name="ties_3" type="revolute">
    <origin xyz="-0.0925 0.0311167 -0.0305" rpy="1.5708 -8.32667e-16 3.14159"/>
    <parent link="hip_3"/>
    <child link="ties_3"/>
    <axis xyz="0 0 1"/>
    <limit effort="10" velocity="10" lower="-2.59641" upper="0.894244"/>
  </joint>
  <!-- Joint from body to hip_3 -->
  <joint name="hip_3" type="revolute">
    <origin xyz="-0.37872 -0.0815178 0.187152" rpy="-2.0868e-15 1.31547e-15 -1.61555"/>
    <parent link="body"/>
    <child link="hip_3"/>
    <axis xyz="0 0 1"/>
    <limit effort="10" velocity="10" lower="-1.52605" upper="1.61555"/>
  </joint>
  <!-- Link hip_4 -->
  <link name="hip_4">
    <inertial>
      <origin xyz="-0.0268487 -0.000325484 -0.0302141" rpy="0 0 0"/>
      <mass value="0.365356"/>
      <inertia ixx="0.000168136" ixy="-2.8417e-07" ixz="3.2467e-06" iyy="0.000312332" iyz="-9.42575e-07" izz="0.000312341"/>
    </inertial>
    <!-- Part hip_4 -->
    <visual>
      <origin xyz="-0.0575 -0.0005 -0.0045" rpy="2.77813e-15 -9.71445e-17 -2.24995e-16"/>
      <geometry>
        <mesh filename="package://meshes/hip.stl"/>
      </geometry>
      <material name="hip_4_material">
        <color rgba="0.196078 0.439216 0.0784314 1"/>
      </material>
    </visual>
    <collision>
      <origin xyz="-0.0575 -0.0005 -0.0045" rpy="2.77813e-15 -9.71445e-17 -2.24995e-16"/>
      <geometry>
        <mesh filename="package://meshes/hip.stl"/>
      </geometry>
    </collision>
    <!-- Part mobile_bracket_13 -->
    <visual>
      <origin xyz="-0.0575 5.55112e-17 -0.0305" rpy="9.71445e-17 -1.31768e-15 1.5708"/>
      <geometry>
        <mesh filename="package://meshes/mobile_bracket.stl"/>
      </geometry>
      <material name="mobile_bracket_13_material">
        <color rgba="0.647059 0.647059 0.647059 1"/>
      </material>
    </visual>
    <collision>
      <origin xyz="-0.0575 5.55112e-17 -0.0305" rpy="9.71445e-17 -1.31768e-15 1.5708"/>
      <geometry>
        <mesh filename="package://meshes/mobile_bracket.stl"/>
      </geometry>
    </collision>
    <!-- Part servo_wheel_19 -->
    <visual>
      <origin xyz="-1.11022e-16 0 -0.0025" rpy="-3.14159 -1.45857e-32 2.98589e-17"/>
      <geometry>
        <mesh filename="package://meshes/servo_wheel.stl"/>
      </geometry>
      <material name="servo_wheel_19_material">
        <color rgba="0.647059 0.647059 0.647059 1"/>
      </material>
    </visual>
    <collision>
      <origin xyz="-1.11022e-16 0 -0.0025" rpy="-3.14159 -1.45857e-32 2.98589e-17"/>
      <geometry>
        <mesh filename="package://meshes/servo_wheel.stl"/>
      </geometry>
    </collision>
    <!-- Part servo_10 -->
    <visual>
      <origin xyz="-0.0175 -0.00140442 -0.0305" rpy="-3.14159 -2.91434e-16 -5.34443e-16"/>
      <geometry>
        <mesh filename="package://meshes/servo.stl"/>
      </geometry>
      <material name="servo_10_material">
        <color rgba="0.109804 0.109804 0.105882 1"/>
      </material>
    </visual>
    <collision>
      <origin xyz="-0.0175 -0.00140442 -0.0305" rpy="-3.14159 -2.91434e-16 -5.34443e-16"/>
      <geometry>
        <mesh filename="package://meshes/servo.stl"/>
      </geometry>
    </collision>
    <!-- Part fixed_bracket_10 -->
    <visual>
      <origin xyz="-0.0575 5.55112e-17 -0.0305" rpy="1.5708 1.5708 0"/>
      <geometry>
        <mesh filename="package://meshes/fixed_bracket.stl"/>
      </geometry>
      <material name="fixed_bracket_10_material">
        <color rgba="0.647059 0.647059 0.647059 1"/>
      </material>
    </visual>
    <collision>
      <origin xyz="-0.0575 5.55112e-17 -0.0305" rpy="1.5708 1.5708 0"/>
      <geometry>
        <mesh filename="package://meshes/fixed_bracket.stl"/>
      </geometry>
    </collision>
    <!-- Part servo_wheel_20 -->
    <visual>
      <origin xyz="-5.55112e-17 5.55112e-17 -0.0585" rpy="-3.14159 6.10623e-16 -2.00365e-16"/>
      <geometry>
        <mesh filename="package://meshes/servo_wheel.stl"/>
      </geometry>
      <material name="servo_wheel_20_material">
        <color rgba="0.647059 0.647059 0.647059 1"/>
      </material>
    </visual>
    <collision>
      <origin xyz="-5.55112e-17 5.55112e-17 -0.0585" rpy="-3.14159 6.10623e-16 -2.00365e-16"/>
      <geometry>
        <mesh filename="package://meshes/servo_wheel.stl"/>
      </geometry>
    </collision>
  </link>
  <!-- Link ties_4 -->
  <link name="ties_4">
    <inertial>
      <origin xyz="0.0365314 0.0529814 -0.0309356" rpy="0 0 0"/>
      <mass value="0.589007"/>
      <inertia ixx="0.00149962" ixy="-0.000831279" ixz="6.16103e-06" iyy="0.000905596" iyz="8.85245e-06" izz="0.0018683"/>
    </inertial>
    <!-- Part mobile_bracket_14 -->
    <visual>
      <origin xyz="0.091879 0.127061 -0.0311738" rpy="0.627409 1.5708 0"/>
      <geometry>
        <mesh filename="package://meshes/mobile_bracket.stl"/>
      </geometry>
      <material name="mobile_bracket_14_material">
        <color rgba="0.647059 0.647059 0.647059 1"/>
      </material>
    </visual>
    <collision>
      <origin xyz="0.091879 0.127061 -0.0311738" rpy="0.627409 1.5708 0"/>
      <geometry>
        <mesh filename="package://meshes/mobile_bracket.stl"/>
      </geometry>
    </collision>
    <!-- Part low_tie_4 -->
    <visual>
      <origin xyz="0.0155626 0.0218195 -0.0311738" rpy="-0.943388 1.5708 0"/>
      <geometry>
        <mesh filename="package://meshes/low_tie.stl"/>
      </geometry>
      <material name="low_tie_4_material">
        <color rgba="0.196078 0.439216 0.0784314 1"/>
      </material>
    </visual>
    <collision>
      <origin xyz="0.0155626 0.0218195 -0.0311738" rpy="-0.943388 1.5708 0"/>
      <geometry>
        <mesh filename="package://meshes/low_tie.stl"/>
      </geometry>
    </collision>
    <!-- Part top_tie_4 -->
    <visual>
      <origin xyz="0.0161438 0.0222627 -0.0305" rpy="-0.943388 1.5708 0"/>
      <geometry>
        <mesh filename="package://meshes/top_tie.stl"/>
      </geometry>
      <material name="top_tie_4_material">
        <color rgba="0.196078 0.439216 0.0784314 1"/>
      </material>
    </visual>
    <collision>
      <origin xyz="0.0161438 0.0222627 -0.0305" rpy="-0.943388 1.5708 0"/>
      <geometry>
        <mesh filename="package://meshes/top_tie.stl"/>
      </geometry>
    </collision>
    <!-- Part servo_wheel_21 -->
    <visual>
      <origin xyz="0 0 -0.0025" rpy="-3.14159 -3.50602e-15 -2.1982"/>
      <geometry>
        <mesh filename="package://meshes/servo_wheel.stl"/>
      </geometry>
      <material name="servo_wheel_21_material">
        <color rgba="0.647059 0.647059 0.647059 1"/>
      </material>
    </visual>
    <collision>
      <origin xyz="0 0 -0.0025" rpy="-3.14159 -3.50602e-15 -2.1982"/>
      <geometry>
        <mesh filename="package://meshes/servo_wheel.stl"/>
      </geometry>
    </collision>
    <!-- Part servo_11 -->
    <visual>
      <origin xyz="0.0091364 0.0149916 -0.0305" rpy="3.14159 -2.38808e-15 -2.1982"/>
      <geometry>
        <mesh filename="package://meshes/servo.stl"/>
      </geometry>
      <material name="servo_11_material">
        <color rgba="0.109804 0.109804 0.105882 1"/>
      </material>
    </visual>
    <collision>
      <origin xyz="0.0091364 0.0149916 -0.0305" rpy="3.14159 -2.38808e-15 -2.1982"/>
      <geometry>
        <mesh filename="package://meshes/servo.stl"/>
      </geometry>
    </collision>
    <!-- Part fixed_bracket_11 -->
    <visual>
      <origin xyz="0.0337553 0.0465492 -0.0305" rpy="-2.51418 1.5708 0"/>
      <geometry>
        <mesh filename="package://meshes/fixed_bracket.stl"/>
      </geometry>
      <material name="fixed_bracket_11_material">
        <color rgba="0.647059 0.647059 0.647059 1"/>
      </material>
    </visual>
    <collision>
      <origin xyz="0.0337553 0.0465492 -0.0305" rpy="-2.51418 1.5708 0"/>
      <geometry>
        <mesh filename="package://meshes/fixed_bracket.stl"/>
      </geometry>
    </collision>
    <!-- Part servo_wheel_22 -->
    <visual>
      <origin xyz="1.11022e-16 -1.11022e-16 -0.0585" rpy="-3.14159 -2.5093e-15 -2.1982"/>
      <geometry>
        <mesh filename="package://meshes/servo_wheel.stl"/>
      </geometry>
      <material name="servo_wheel_22_material">
        <color rgba="0.647059 0.647059 0.647059 1"/>
      </material>
    </visual>
    <collision>
      <origin xyz="1.11022e-16 -1.11022e-16 -0.0585" rpy="-3.14159 -2.5093e-15 -2.1982"/>
      <geometry>
        <mesh filename="package://meshes/servo_wheel.stl"/>
      </geometry>
    </collision>
  </link>
  <!-- Link foot_4 -->
  <link name="foot_4">
    <inertial>
      <origin xyz="-0.0728169 -0.00211214 -0.0306668" rpy="0 0 0"/>
      <mass value="0.635283"/>
      <inertia ixx="0.000268517" ixy="-1.64153e-05" ixz="4.3218e-06" iyy="0.0032443" iyz="-2.27229e-07" izz="0.00308124"/>
    </inertial>
    <!-- Part foot_4 -->
    <visual>
      <origin xyz="-0.04425 0 -0.0305" rpy="-1.23231e-16 1.5708 0"/>
      <geometry>
        <mesh filename="package://meshes/foot.stl"/>
      </geometry>
      <material name="foot_4_material">
        <color rgba="0.282353 0.54902 0.160784 1"/>
      </material>
    </visual>
    <collision>
      <origin xyz="-0.04425 0 -0.0305" rpy="-1.23231e-16 1.5708 0"/>
      <geometry>
        <mesh filename="package://meshes/foot.stl"/>
      </geometry>
    </collision>
    <!-- Part rubber_foot_4 -->
    <visual>
      <origin xyz="-0.04375 1.11022e-16 -0.03" rpy="-7.13657e-17 1.5708 0"/>
      <geometry>
        <mesh filename="package://meshes/rubber_foot.stl"/>
      </geometry>
      <material name="rubber_foot_4_material">
        <color rgba="0.262745 0.282353 0.301961 1"/>
      </material>
    </visual>
    <collision>
      <origin xyz="-0.04375 1.11022e-16 -0.03" rpy="-7.13657e-17 1.5708 0"/>
      <geometry>
        <mesh filename="package://meshes/rubber_foot.stl"/>
      </geometry>
    </collision>
    <!-- Part servo_wheel_23 -->
    <visual>
      <origin xyz="0 1.11022e-16 -0.0025" rpy="3.14159 3.0267e-17 2.76226e-18"/>
      <geometry>
        <mesh filename="package://meshes/servo_wheel.stl"/>
      </geometry>
      <material name="servo_wheel_23_material">
        <color rgba="0.647059 0.647059 0.647059 1"/>
      </material>
    </visual>
    <collision>
      <origin xyz="0 1.11022e-16 -0.0025" rpy="3.14159 3.0267e-17 2.76226e-18"/>
      <geometry>
        <mesh filename="package://meshes/servo_wheel.stl"/>
      </geometry>
    </collision>
    <!-- Part servo_12 -->
    <visual>
      <origin xyz="-0.0175 -0.00140442 -0.0305" rpy="3.14159 9.77449e-16 1.03262e-15"/>
      <geometry>
        <mesh filename="package://meshes/servo.stl"/>
      </geometry>
      <material name="servo_12_material">
        <color rgba="0.109804 0.109804 0.105882 1"/>
      </material>
    </visual>
    <collision>
      <origin xyz="-0.0175 -0.00140442 -0.0305" rpy="3.14159 9.77449e-16 1.03262e-15"/>
      <geometry>
        <mesh filename="package://meshes/servo.stl"/>
      </geometry>
    </collision>
    <!-- Part fixed_bracket_12 -->
    <visual>
      <origin xyz="-0.0575 1.11022e-16 -0.0305" rpy="1.5708 1.5708 0"/>
      <geometry>
        <mesh filename="package://meshes/fixed_bracket.stl"/>
      </geometry>
      <material name="fixed_bracket_12_material">
        <color rgba="0.647059 0.647059 0.647059 1"/>
      </material>
    </visual>
    <collision>
      <origin xyz="-0.0575 1.11022e-16 -0.0305" rpy="1.5708 1.5708 0"/>
      <geometry>
        <mesh filename="package://meshes/fixed_bracket.stl"/>
      </geometry>
    </collision>
    <!-- Part servo_wheel_24 -->
    <visual>
      <origin xyz="0 1.11022e-16 -0.0585" rpy="-3.14159 4.47979e-16 4.1255e-16"/>
      <geometry>
        <mesh filename="package://meshes/servo_wheel.stl"/>
      </geometry>
      <material name="servo_wheel_24_material">
        <color rgba="0.647059 0.647059 0.647059 1"/>
      </material>
    </visual>
    <collision>
      <origin xyz="0 1.11022e-16 -0.0585" rpy="-3.14159 4.47979e-16 4.1255e-16"/>
      <geometry>
        <mesh filename="package://meshes/servo_wheel.stl"/>
      </geometry>
    </collision>
  </link>
  <!-- Joint from ties_4 to foot_4 -->
  <joint name="foot_4" type="revolute">
    <origin xyz="0.112426 0.155395 -0.000790548" rpy="2.30727e-15 -2.8566e-15 2.31531"/>
    <parent link="ties_4"/>
    <child link="foot_4"/>
    <axis xyz="0 0 1"/>
    <limit effort="10" velocity="10" lower="-0.324722" upper="3.86407"/>
  </joint>
  <!-- Joint from hip_4 to ties_4 -->
  <joint name="ties_4" type="revolute">
    <origin xyz="-0.0925 0.0311167 -0.0305" rpy="1.5708 -9.71445e-17 -3.14159"/>
    <parent link="hip_4"/>
    <child link="ties_4"/>
    <axis xyz="0 0 1"/>
    <limit effort="10" velocity="10" lower="-2.68872" upper="0.801941"/>
  </joint>
  <!-- Joint from body to hip_4 -->
  <joint name="hip_4" type="revolute">
    <origin xyz="-0.51537 -0.160413 0.187152" rpy="-2.97536e-15 -4.73545e-16 -0.468195"/>
    <parent link="body"/>
    <child link="hip_4"/>
    <axis xyz="0 0 1"/>
    <limit effort="10" velocity="10" lower="-1.6262" upper="1.51539"/>
  </joint>
  <!-- Link hip_5 -->
  <link name="hip_5">
    <inertial>
      <origin xyz="-0.0268487 0.000325484 -0.0307859" rpy="0 0 0"/>
      <mass value="0.365356"/>
      <inertia ixx="0.000168136" ixy="2.8417e-07" ixz="-3.2467e-06" iyy="0.000312332" iyz="-9.42575e-07" izz="0.000312341"/>
    </inertial>
    <!-- Part hip_5 -->
    <visual>
      <origin xyz="-0.0575 0.0005 -0.0565" rpy="-3.14159 2.15106e-16 -1.50245e-15"/>
      <geometry>
        <mesh filename="package://meshes/hip.stl"/>
      </geometry>
      <material name="hip_5_material">
        <color rgba="0.196078 0.439216 0.0784314 1"/>
      </material>
    </visual>
    <collision>
      <origin xyz="-0.0575 0.0005 -0.0565" rpy="-3.14159 2.15106e-16 -1.50245e-15"/>
      <geometry>
        <mesh filename="package://meshes/hip.stl"/>
      </geometry>
    </collision>
    <!-- Part mobile_bracket_15 -->
    <visual>
      <origin xyz="-0.0575 1.38778e-17 -0.0305" rpy="3.14159 9.15934e-16 -1.5708"/>
      <geometry>
        <mesh filename="package://meshes/mobile_bracket.stl"/>
      </geometry>
      <material name="mobile_bracket_15_material">
        <color rgba="0.647059 0.647059 0.647059 1"/>
      </material>
    </visual>
    <collision>
      <origin xyz="-0.0575 1.38778e-17 -0.0305" rpy="3.14159 9.15934e-16 -1.5708"/>
      <geometry>
        <mesh filename="package://meshes/mobile_bracket.stl"/>
      </geometry>
    </collision>
    <!-- Part servo_wheel_25 -->
    <visual>
      <origin xyz="0 -4.16334e-17 -0.0585" rpy="2.26208e-15 -2.28983e-16 -2.91621e-16"/>
      <geometry>
        <mesh filename="package://meshes/servo_wheel.stl"/>
      </geometry>
      <material name="servo_wheel_25_material">
        <color rgba="0.647059 0.647059 0.647059 1"/>
      </material>
    </visual>
    <collision>
      <origin xyz="0 -4.16334e-17 -0.0585" rpy="2.26208e-15 -2.28983e-16 -2.91621e-16"/>
      <geometry>
        <mesh filename="package://meshes/servo_wheel.stl"/>
      </geometry>
    </collision>
    <!-- Part servo_13 -->
    <visual>
      <origin xyz="-0.0175 0.00140442 -0.0305" rpy="2.26208e-15 -2.28983e-16 -2.91621e-16"/>
      <geometry>
        <mesh filename="package://meshes/servo.stl"/>
      </geometry>
      <material name="servo_13_material">
        <color rgba="0.109804 0.109804 0.105882 1"/>
      </material>
    </visual>
    <collision>
      <origin xyz="-0.0175 0.00140442 -0.0305" rpy="2.26208e-15 -2.28983e-16 -2.91621e-16"/>
      <geometry>
        <mesh filename="package://meshes/servo.stl"/>
      </geometry>
    </collision>
    <!-- Part fixed_bracket_13 -->
    <visual>
      <origin xyz="-0.0575 1.38778e-17 -0.0305" rpy="-1.5708 -1.5708 0"/>
      <geometry>
        <mesh filename="package://meshes/fixed_bracket.stl"/>
      </geometry>
      <material name="fixed_bracket_13_material">
        <color rgba="0.647059 0.647059 0.647059 1"/>
      </material>
    </visual>
    <collision>
      <origin xyz="-0.0575 1.38778e-17 -0.0305" rpy="-1.5708 -1.5708 0"/>
      <geometry>
        <mesh filename="package://meshes/fixed_bracket.stl"/>
      </geometry>
    </collision>
    <!-- Part servo_wheel_26 -->
    <visual>
      <origin xyz="0 -6.93889e-18 -0.0025" rpy="-2.30103e-31 1.05154e-31 8.44036e-17"/>
      <geometry>
        <mesh filename="package://meshes/servo_wheel.stl"/>
      </geometry>
      <material name="servo_wheel_26_material">
        <color rgba="0.647059 0.647059 0.647059 1"/>
      </material>
    </visual>
    <collision>
      <origin xyz="0 -6.93889e-18 -0.0025" rpy="-2.30103e-31 1.05154e-31 8.44036e-17"/>
      <geometry>
        <mesh filename="package://meshes/servo_wheel.stl"/>
      </geometry>
    </collision>
  </link>
  <!-- Link ties_5 -->
  <link name="ties_5">
    <inertial>
      <origin xyz="0.0272069 0.0583211 -0.0309356" rpy="0 0 0"/>
      <mass value="0.589007"/>
      <inertia ixx="0.00175595" ixy="-0.000687794" ixz="4.60223e-06" iyy="0.000649272" iyz="9.75416e-06" izz="0.0018683"/>
    </inertial>
    <!-- Part mobile_bracket_16 -->
    <visual>
      <origin xyz="0.0694572 0.140577 -0.0311738" rpy="0.460246 1.5708 0"/>
      <geometry>
        <mesh filename="package://meshes/mobile_bracket.stl"/>
      </geometry>
      <material name="mobile_bracket_16_material">
        <color rgba="0.647059 0.647059 0.647059 1"/>
      </material>
    </visual>
    <collision>
      <origin xyz="0.0694572 0.140577 -0.0311738" rpy="0.460246 1.5708 0"/>
      <geometry>
        <mesh filename="package://meshes/mobile_bracket.stl"/>
      </geometry>
    </collision>
    <!-- Part low_tie_5 -->
    <visual>
      <origin xyz="0.0117153 0.0241047 -0.0311738" rpy="-1.11055 1.5708 0"/>
      <geometry>
        <mesh filename="package://meshes/low_tie.stl"/>
      </geometry>
      <material name="low_tie_5_material">
        <color rgba="0.196078 0.439216 0.0784314 1"/>
      </material>
    </visual>
    <collision>
      <origin xyz="0.0117153 0.0241047 -0.0311738" rpy="-1.11055 1.5708 0"/>
      <geometry>
        <mesh filename="package://meshes/low_tie.stl"/>
      </geometry>
    </collision>
    <!-- Part top_tie_5 -->
    <visual>
      <origin xyz="0.0122146 0.0246384 -0.0305" rpy="-1.11055 1.5708 0"/>
      <geometry>
        <mesh filename="package://meshes/top_tie.stl"/>
      </geometry>
      <material name="top_tie_5_material">
        <color rgba="0.196078 0.439216 0.0784314 1"/>
      </material>
    </visual>
    <collision>
      <origin xyz="0.0122146 0.0246384 -0.0305" rpy="-1.11055 1.5708 0"/>
      <geometry>
        <mesh filename="package://meshes/top_tie.stl"/>
      </geometry>
    </collision>
    <!-- Part servo_wheel_27 -->
    <visual>
      <origin xyz="-1.11022e-16 0 -0.0025" rpy="3.14159 -2.86725e-15 -2.03104"/>
      <geometry>
        <mesh filename="package://meshes/servo_wheel.stl"/>
      </geometry>
      <material name="servo_wheel_27_material">
        <color rgba="0.647059 0.647059 0.647059 1"/>
      </material>
    </visual>
    <collision>
      <origin xyz="-1.11022e-16 0 -0.0025" rpy="3.14159 -2.86725e-15 -2.03104"/>
      <geometry>
        <mesh filename="package://meshes/servo_wheel.stl"/>
      </geometry>
    </collision>
    <!-- Part servo_14 -->
    <visual>
      <origin xyz="0.00651467 0.0163028 -0.0305" rpy="3.14159 -6.38067e-15 -2.03104"/>
      <geometry>
        <mesh filename="package://meshes/servo.stl"/>
      </geometry>
      <material name="servo_14_material">
        <color rgba="0.109804 0.109804 0.105882 1"/>
      </material>
    </visual>
    <collision>
      <origin xyz="0.00651467 0.0163028 -0.0305" rpy="3.14159 -6.38067e-15 -2.03104"/>
      <geometry>
        <mesh filename="package://meshes/servo.stl"/>
      </geometry>
    </collision>
    <!-- Part fixed_bracket_14 -->
    <visual>
      <origin xyz="0.0255397 0.0515167 -0.0305" rpy="-2.68135 1.5708 0"/>
      <geometry>
        <mesh filename="package://meshes/fixed_bracket.stl"/>
      </geometry>
      <material name="fixed_bracket_14_material">
        <color rgba="0.647059 0.647059 0.647059 1"/>
      </material>
    </visual>
    <collision>
      <origin xyz="0.0255397 0.0515167 -0.0305" rpy="-2.68135 1.5708 0"/>
      <geometry>
        <mesh filename="package://meshes/fixed_bracket.stl"/>
      </geometry>
    </collision>
    <!-- Part servo_wheel_28 -->
    <visual>
      <origin xyz="0 -2.77556e-17 -0.0585" rpy="3.14159 -6.30303e-15 -2.03104"/>
      <geometry>
        <mesh filename="package://meshes/servo_wheel.stl"/>
      </geometry>
      <material name="servo_wheel_28_material">
        <color rgba="0.647059 0.647059 0.647059 1"/>
      </material>
    </visual>
    <collision>
      <origin xyz="0 -2.77556e-17 -0.0585" rpy="3.14159 -6.30303e-15 -2.03104"/>
      <geometry>
        <mesh filename="package://meshes/servo_wheel.stl"/>
      </geometry>
    </collision>
  </link>
  <!-- Link foot_5 -->
  <link name="foot_5">
    <inertial>
      <origin xyz="-0.0728169 -0.00211214 -0.0306668" rpy="0 0 0"/>
      <mass value="0.635283"/>
      <inertia ixx="0.000268517" ixy="-1.64153e-05" ixz="4.3218e-06" iyy="0.0032443" iyz="-2.27229e-07" izz="0.00308124"/>
    </inertial>
    <!-- Part foot_5 -->
    <visual>
      <origin xyz="-0.04425 1.11022e-16 -0.0305" rpy="1.26144e-16 1.5708 0"/>
      <geometry>
        <mesh filename="package://meshes/foot.stl"/>
      </geometry>
      <material name="foot_5_material">
        <color rgba="0.282353 0.54902 0.160784 1"/>
      </material>
    </visual>
    <collision>
      <origin xyz="-0.04425 1.11022e-16 -0.0305" rpy="1.26144e-16 1.5708 0"/>
      <geometry>
        <mesh filename="package://meshes/foot.stl"/>
      </geometry>
    </collision>
    <!-- Part rubber_foot_5 -->
    <visual>
      <origin xyz="-0.04375 2.22045e-16 -0.03" rpy="-5.25382e-17 1.5708 0"/>
      <geometry>
        <mesh filename="package://meshes/rubber_foot.stl"/>
      </geometry>
      <material name="rubber_foot_5_material">
        <color rgba="0.262745 0.282353 0.301961 1"/>
      </material>
    </visual>
    <collision>
      <origin xyz="-0.04375 2.22045e-16 -0.03" rpy="-5.25382e-17 1.5708 0"/>
      <geometry>
        <mesh filename="package://meshes/rubber_foot.stl"/>
      </geometry>
    </collision>
    <!-- Part servo_wheel_29 -->
    <visual>
      <origin xyz="1.38778e-16 1.11022e-16 -0.0025" rpy="3.14159 -1.17155e-17 -8.48218e-17"/>
      <geometry>
        <mesh filename="package://meshes/servo_wheel.stl"/>
      </geometry>
      <material name="servo_wheel_29_material">
        <color rgba="0.647059 0.647059 0.647059 1"/>
      </material>
    </visual>
    <collision>
      <origin xyz="1.38778e-16 1.11022e-16 -0.0025" rpy="3.14159 -1.17155e-17 -8.48218e-17"/>
      <geometry>
        <mesh filename="package://meshes/servo_wheel.stl"/>
      </geometry>
    </collision>
    <!-- Part servo_15 -->
    <visual>
      <origin xyz="-0.0175 -0.00140442 -0.0305" rpy="-3.14159 4.62797e-15 -1.00162e-16"/>
      <geometry>
        <mesh filename="package://meshes/servo.stl"/>
      </geometry>
      <material name="servo_15_material">
        <color rgba="0.109804 0.109804 0.105882 1"/>
      </material>
    </visual>
    <collision>
      <origin xyz="-0.0175 -0.00140442 -0.0305" rpy="-3.14159 4.62797e-15 -1.00162e-16"/>
      <geometry>
        <mesh filename="package://meshes/servo.stl"/>
      </geometry>
    </collision>
    <!-- Part fixed_bracket_15 -->
    <visual>
      <origin xyz="-0.0575 1.11022e-16 -0.0305" rpy="1.5708 1.5708 0"/>
      <geometry>
        <mesh filename="package://meshes/fixed_bracket.stl"/>
      </geometry>
      <material name="fixed_bracket_15_material">
        <color rgba="0.647059 0.647059 0.647059 1"/>
      </material>
    </visual>
    <collision>
      <origin xyz="-0.0575 1.11022e-16 -0.0305" rpy="1.5708 1.5708 0"/>
      <geometry>
        <mesh filename="package://meshes/fixed_bracket.stl"/>
      </geometry>
    </collision>
    <!-- Part servo_wheel_30 -->
    <visual>
      <origin xyz="8.32667e-17 1.11022e-16 -0.0585" rpy="3.14159 4.60622e-15 -5.36079e-17"/>
      <geometry>
        <mesh filename="package://meshes/servo_wheel.stl"/>
      </geometry>
      <material name="servo_wheel_30_material">
        <color rgba="0.647059 0.647059 0.647059 1"/>
      </material>
    </visual>
    <collision>
      <origin xyz="8.32667e-17 1.11022e-16 -0.0585" rpy="3.14159 4.60622e-15 -5.36079e-17"/>
      <geometry>
        <mesh filename="package://meshes/servo_wheel.stl"/>
      </geometry>
    </collision>
  </link>
  <!-- Joint from ties_5 to foot_5 -->
  <joint name="foot_5" type="revolute">
    <origin xyz="0.0850031 0.171935 -0.000790548" rpy="2.7886e-15 -1.77715e-15 2.22613"/>
    <parent link="ties_5"/>
    <child link="foot_5"/>
    <axis xyz="0 0 1"/>
    <limit effort="10" velocity="10" lower="-0.0683837" upper="4.12041"/>
  </joint>
  <!-- Joint from hip_5 to ties_5 -->
  <joint name="ties_5" type="revolute">
    <origin xyz="-0.0925 -0.0311167 -0.0305" rpy="-1.5708 -1.38778e-16 3.14159"/>
    <parent link="hip_5"/>
    <child link="ties_5"/>
    <axis xyz="0 0 1"/>
    <limit effort="10" velocity="10" lower="-2.85588" upper="0.634779"/>
  </joint>
  <!-- Joint from body to hip_5 -->
  <joint name="hip_5" type="revolute">
    <origin xyz="-0.51537 -0.318204 0.125652" rpy="3.14159 1.60733e-15 0.64378"/>
    <parent link="body"/>
    <child link="hip_5"/>
    <axis xyz="0 0 1"/>
    <limit effort="10" velocity="10" lower="-1.45061" upper="1.69098"/>
  </joint>
  <!-- Link hip_6 -->
  <link name="hip_6">
    <inertial>
      <origin xyz="-0.0268487 -0.000325484 -0.0302141" rpy="0 0 0"/>
      <mass value="0.365356"/>
      <inertia ixx="0.000168136" ixy="-2.8417e-07" ixz="3.2467e-06" iyy="0.000312332" iyz="-9.42575e-07" izz="0.000312341"/>
    </inertial>
    <!-- Part hip_6 -->
    <visual>
      <origin xyz="-0.0575 -0.0005 -0.0045" rpy="5.04248e-17 -1.10032e-17 1.50548e-15"/>
      <geometry>
        <mesh filename="package://meshes/hip.stl"/>
      </geometry>
      <material name="hip_6_material">
        <color rgba="0.196078 0.439216 0.0784314 1"/>
      </material>
    </visual>
    <collision>
      <origin xyz="-0.0575 -0.0005 -0.0045" rpy="5.04248e-17 -1.10032e-17 1.50548e-15"/>
      <geometry>
        <mesh filename="package://meshes/hip.stl"/>
      </geometry>
    </collision>
    <!-- Part mobile_bracket_17 -->
    <visual>
      <origin xyz="-0.0575 -5.55112e-17 -0.0305" rpy="1.18004e-15 2.26939e-16 1.5708"/>
      <geometry>
        <mesh filename="package://meshes/mobile_bracket.stl"/>
      </geometry>
      <material name="mobile_bracket_17_material">
        <color rgba="0.647059 0.647059 0.647059 1"/>
      </material>
    </visual>
    <collision>
      <origin xyz="-0.0575 -5.55112e-17 -0.0305" rpy="1.18004e-15 2.26939e-16 1.5708"/>
      <geometry>
        <mesh filename="package://meshes/mobile_bracket.stl"/>
      </geometry>
    </collision>
    <!-- Part servo_wheel_31 -->
    <visual>
      <origin xyz="0 0 -0.0025" rpy="-3.14159 -9.22173e-32 -9.30697e-18"/>
      <geometry>
        <mesh filename="package://meshes/servo_wheel.stl"/>
      </geometry>
      <material name="servo_wheel_31_material">
        <color rgba="0.647059 0.647059 0.647059 1"/>
      </material>
    </visual>
    <collision>
      <origin xyz="0 0 -0.0025" rpy="-3.14159 -9.22173e-32 -9.30697e-18"/>
      <geometry>
        <mesh filename="package://meshes/servo_wheel.stl"/>
      </geometry>
    </collision>
    <!-- Part servo_16 -->
    <visual>
      <origin xyz="-0.0175 -0.00140442 -0.0305" rpy="3.14159 1.18548e-17 5.34039e-16"/>
      <geometry>
        <mesh filename="package://meshes/servo.stl"/>
      </geometry>
      <material name="servo_16_material">
        <color rgba="0.109804 0.109804 0.105882 1"/>
      </material>
    </visual>
    <collision>
      <origin xyz="-0.0175 -0.00140442 -0.0305" rpy="3.14159 1.18548e-17 5.34039e-16"/>
      <geometry>
        <mesh filename="package://meshes/servo.stl"/>
      </geometry>
    </collision>
    <!-- Part fixed_bracket_16 -->
    <visual>
      <origin xyz="-0.0575 -5.55112e-17 -0.0305" rpy="1.5708 1.5708 0"/>
      <geometry>
        <mesh filename="package://meshes/fixed_bracket.stl"/>
      </geometry>
      <material name="fixed_bracket_16_material">
        <color rgba="0.647059 0.647059 0.647059 1"/>
      </material>
    </visual>
    <collision>
      <origin xyz="-0.0575 -5.55112e-17 -0.0305" rpy="1.5708 1.5708 0"/>
      <geometry>
        <mesh filename="package://meshes/fixed_bracket.stl"/>
      </geometry>
    </collision>
    <!-- Part servo_wheel_32 -->
    <visual>
      <origin xyz="5.55112e-17 0 -0.0585" rpy="3.14159 1.18841e-17 -9.30697e-18"/>
      <geometry>
        <mesh filename="package://meshes/servo_wheel.stl"/>
      </geometry>
      <material name="servo_wheel_32_material">
        <color rgba="0.647059 0.647059 0.647059 1"/>
      </material>
    </visual>
    <collision>
      <origin xyz="5.55112e-17 0 -0.0585" rpy="3.14159 1.18841e-17 -9.30697e-18"/>
      <geometry>
        <mesh filename="package://meshes/servo_wheel.stl"/>
      </geometry>
    </collision>
  </link>
  <!-- Link ties_6 -->
  <link name="ties_6">
    <inertial>
      <origin xyz="0.0571255 0.0296353 -0.0309356" rpy="0 0 0"/>
      <mass value="0.589007"/>
      <inertia ixx="0.000679683" ixy="-0.000711189" ixz="9.59533e-06" iyy="0.00172553" iyz="4.92482e-06" izz="0.0018683"/>
    </inertial>
    <!-- Part mobile_bracket_18 -->
    <visual>
      <origin xyz="0.140769 0.0690685 -0.0311738" rpy="1.116 1.5708 0"/>
      <geometry>
        <mesh filename="package://meshes/mobile_bracket.stl"/>
      </geometry>
      <material name="mobile_bracket_18_material">
        <color rgba="0.647059 0.647059 0.647059 1"/>
      </material>
    </visual>
    <collision>
      <origin xyz="0.140769 0.0690685 -0.0311738" rpy="1.116 1.5708 0"/>
      <geometry>
        <mesh filename="package://meshes/mobile_bracket.stl"/>
      </geometry>
    </collision>
    <!-- Part low_tie_6 -->
    <visual>
      <origin xyz="0.0239834 0.0119617 -0.0311738" rpy="-0.4548 1.5708 0"/>
      <geometry>
        <mesh filename="package://meshes/low_tie.stl"/>
      </geometry>
      <material name="low_tie_6_material">
        <color rgba="0.196078 0.439216 0.0784314 1"/>
      </material>
    </visual>
    <collision>
      <origin xyz="0.0239834 0.0119617 -0.0311738" rpy="-0.4548 1.5708 0"/>
      <geometry>
        <mesh filename="package://meshes/low_tie.stl"/>
      </geometry>
    </collision>
    <!-- Part top_tie_6 -->
    <visual>
      <origin xyz="0.0247046 0.0120803 -0.0305" rpy="-0.4548 1.5708 0"/>
      <geometry>
        <mesh filename="package://meshes/top_tie.stl"/>
      </geometry>
      <material name="top_tie_6_material">
        <color rgba="0.196078 0.439216 0.0784314 1"/>
      </material>
    </visual>
    <collision>
      <origin xyz="0.0247046 0.0120803 -0.0305" rpy="-0.4548 1.5708 0"/>
      <geometry>
        <mesh filename="package://meshes/top_tie.stl"/>
      </geometry>
    </collision>
    <!-- Part servo_wheel_33 -->
    <visual>
      <origin xyz="-1.11022e-16 0 -0.0025" rpy="-3.14159 -4.42224e-15 -2.68679"/>
      <geometry>
        <mesh filename="package://meshes/servo_wheel.stl"/>
      </geometry>
      <material name="servo_wheel_33_material">
        <color rgba="0.647059 0.647059 0.647059 1"/>
      </material>
    </visual>
    <collision>
      <origin xyz="-1.11022e-16 0 -0.0025" rpy="-3.14159 -4.42224e-15 -2.68679"/>
      <geometry>
        <mesh filename="package://meshes/servo_wheel.stl"/>
      </geometry>
    </collision>
    <!-- Part servo_17 -->
    <visual>
      <origin xyz="0.0151042 0.0089491 -0.0305" rpy="-3.14159 -4.43373e-15 -2.68679"/>
      <geometry>
        <mesh filename="package://meshes/servo.stl"/>
      </geometry>
      <material name="servo_17_material">
        <color rgba="0.109804 0.109804 0.105882 1"/>
      </material>
    </visual>
    <collision>
      <origin xyz="0.0151042 0.0089491 -0.0305" rpy="-3.14159 -4.43373e-15 -2.68679"/>
      <geometry>
        <mesh filename="package://meshes/servo.stl"/>
      </geometry>
    </collision>
    <!-- Part fixed_bracket_17 -->
    <visual>
      <origin xyz="0.0516551 0.0252587 -0.0305" rpy="-2.0256 1.5708 0"/>
      <geometry>
        <mesh filename="package://meshes/fixed_bracket.stl"/>
      </geometry>
      <material name="fixed_bracket_17_material">
        <color rgba="0.647059 0.647059 0.647059 1"/>
      </material>
    </visual>
    <collision>
      <origin xyz="0.0516551 0.0252587 -0.0305" rpy="-2.0256 1.5708 0"/>
      <geometry>
        <mesh filename="package://meshes/fixed_bracket.stl"/>
      </geometry>
    </collision>
    <!-- Part servo_wheel_34 -->
    <visual>
      <origin xyz="-1.11022e-16 0 -0.0585" rpy="-3.14159 -4.38503e-15 -2.68679"/>
      <geometry>
        <mesh filename="package://meshes/servo_wheel.stl"/>
      </geometry>
      <material name="servo_wheel_34_material">
        <color rgba="0.647059 0.647059 0.647059 1"/>
      </material>
    </visual>
    <collision>
      <origin xyz="-1.11022e-16 0 -0.0585" rpy="-3.14159 -4.38503e-15 -2.68679"/>
      <geometry>
        <mesh filename="package://meshes/servo_wheel.stl"/>
      </geometry>
    </collision>
  </link>
  <!-- Link foot_6 -->
  <link name="foot_6">
    <inertial>
      <origin xyz="-0.0728169 -0.00211214 -0.0306668" rpy="0 0 0"/>
      <mass value="0.635283"/>
      <inertia ixx="0.000268517" ixy="-1.64153e-05" ixz="4.3218e-06" iyy="0.0032443" iyz="-2.27229e-07" izz="0.00308124"/>
    </inertial>
    <!-- Part foot_6 -->
    <visual>
      <origin xyz="-0.04425 0 -0.0305" rpy="-2.3949e-16 1.5708 0"/>
      <geometry>
        <mesh filename="package://meshes/foot.stl"/>
      </geometry>
      <material name="foot_6_material">
        <color rgba="0.282353 0.54902 0.160784 1"/>
      </material>
    </visual>
    <collision>
      <origin xyz="-0.04425 0 -0.0305" rpy="-2.3949e-16 1.5708 0"/>
      <geometry>
        <mesh filename="package://meshes/foot.stl"/>
      </geometry>
    </collision>
    <!-- Part rubber_foot_6 -->
    <visual>
      <origin xyz="-0.04375 -9.99201e-16 -0.03" rpy="4.79272e-15 1.5708 0"/>
      <geometry>
        <mesh filename="package://meshes/rubber_foot.stl"/>
      </geometry>
      <material name="rubber_foot_6_material">
        <color rgba="0.262745 0.282353 0.301961 1"/>
      </material>
    </visual>
    <collision>
      <origin xyz="-0.04375 -9.99201e-16 -0.03" rpy="4.79272e-15 1.5708 0"/>
      <geometry>
        <mesh filename="package://meshes/rubber_foot.stl"/>
      </geometry>
    </collision>
    <!-- Part servo_wheel_35 -->
    <visual>
      <origin xyz="-2.77556e-17 0 -0.0025" rpy="-3.14159 1.48106e-18 -6.3734e-17"/>
      <geometry>
        <mesh filename="package://meshes/servo_wheel.stl"/>
      </geometry>
      <material name="servo_wheel_35_material">
        <color rgba="0.647059 0.647059 0.647059 1"/>
      </material>
    </visual>
    <collision>
      <origin xyz="-2.77556e-17 0 -0.0025" rpy="-3.14159 1.48106e-18 -6.3734e-17"/>
      <geometry>
        <mesh filename="package://meshes/servo_wheel.stl"/>
      </geometry>
    </collision>
    <!-- Part servo_18 -->
    <visual>
      <origin xyz="-0.0175 -0.00140442 -0.0305" rpy="-3.14159 -4.72753e-16 -1.7217e-16"/>
      <geometry>
        <mesh filename="package://meshes/servo.stl"/>
      </geometry>
      <material name="servo_18_material">
        <color rgba="0.109804 0.109804 0.105882 1"/>
      </material>
    </visual>
    <collision>
      <origin xyz="-0.0175 -0.00140442 -0.0305" rpy="-3.14159 -4.72753e-16 -1.7217e-16"/>
      <geometry>
        <mesh filename="package://meshes/servo.stl"/>
      </geometry>
    </collision>
    <!-- Part fixed_bracket_18 -->
    <visual>
      <origin xyz="-0.0575 0 -0.0305" rpy="1.5708 1.5708 0"/>
      <geometry>
        <mesh filename="package://meshes/fixed_bracket.stl"/>
      </geometry>
      <material name="fixed_bracket_18_material">
        <color rgba="0.647059 0.647059 0.647059 1"/>
      </material>
    </visual>
    <collision>
      <origin xyz="-0.0575 0 -0.0305" rpy="1.5708 1.5708 0"/>
      <geometry>
        <mesh filename="package://meshes/fixed_bracket.stl"/>
      </geometry>
    </collision>
    <!-- Part servo_wheel_36 -->
    <visual>
      <origin xyz="-1.11022e-16 -1.11022e-16 -0.0585" rpy="-3.14159 -4.72753e-16 -1.7217e-16"/>
      <geometry>
        <mesh filename="package://meshes/servo_wheel.stl"/>
      </geometry>
      <material name="servo_wheel_36_material">
        <color rgba="0.647059 0.647059 0.647059 1"/>
      </material>
    </visual>
    <collision>
      <origin xyz="-1.11022e-16 -1.11022e-16 -0.0585" rpy="-3.14159 -4.72753e-16 -1.7217e-16"/>
      <geometry>
        <mesh filename="package://meshes/servo_wheel.stl"/>
      </geometry>
    </collision>
  </link>
  <!-- Joint from ties_6 to foot_6 -->
  <joint name="foot_6" type="revolute">
    <origin xyz="0.172211 0.0844433 -0.000790548" rpy="-8.41938e-16 3.89144e-15 2.1079"/>
    <parent link="ties_6"/>
    <child link="foot_6"/>
    <axis xyz="0 0 1"/>
    <limit effort="10" velocity="10" lower="-0.605901" upper="3.58289"/>
  </joint>
  <!-- Joint from hip_6 to ties_6 -->
  <joint name="ties_6" type="revolute">
    <origin xyz="-0.0925 0.0311167 -0.0305" rpy="1.5708 -1.18004e-15 -3.14159"/>
    <parent link="hip_6"/>
    <child link="ties_6"/>
    <axis xyz="0 0 1"/>
    <limit effort="10" velocity="10" lower="-2.20013" upper="1.29053"/>
  </joint>
  <!-- Joint from body to hip_6 -->
  <joint name="hip_6" type="revolute">
    <origin xyz="-0.37872 -0.397099 0.186418" rpy="1.19323e-15 -4.1531e-16 1.45631"/>
    <parent link="body"/>
    <child link="hip_6"/>
    <axis xyz="0 0 1"/>
    <limit effort="10" velocity="10" lower="-1.45631" upper="1.68529"/>
  </joint>
</robot>
